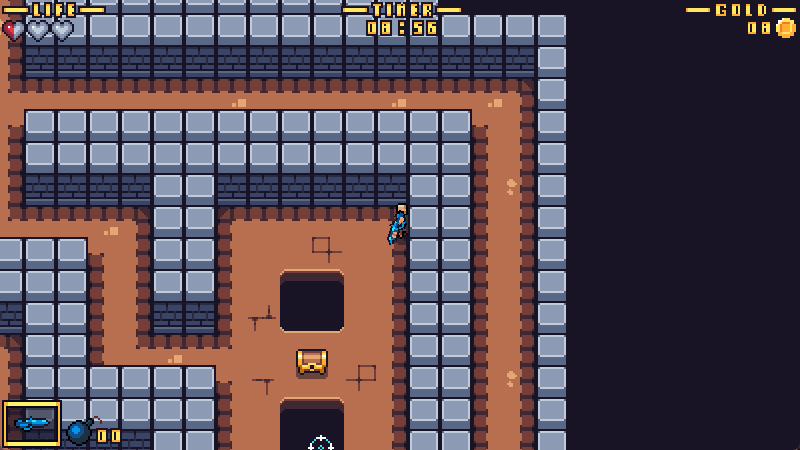aim: (305, 436, 334, 450)
health-5: (1, 17, 75, 42)
player: (388, 205, 408, 246)
treasury_close: (296, 348, 329, 377)
